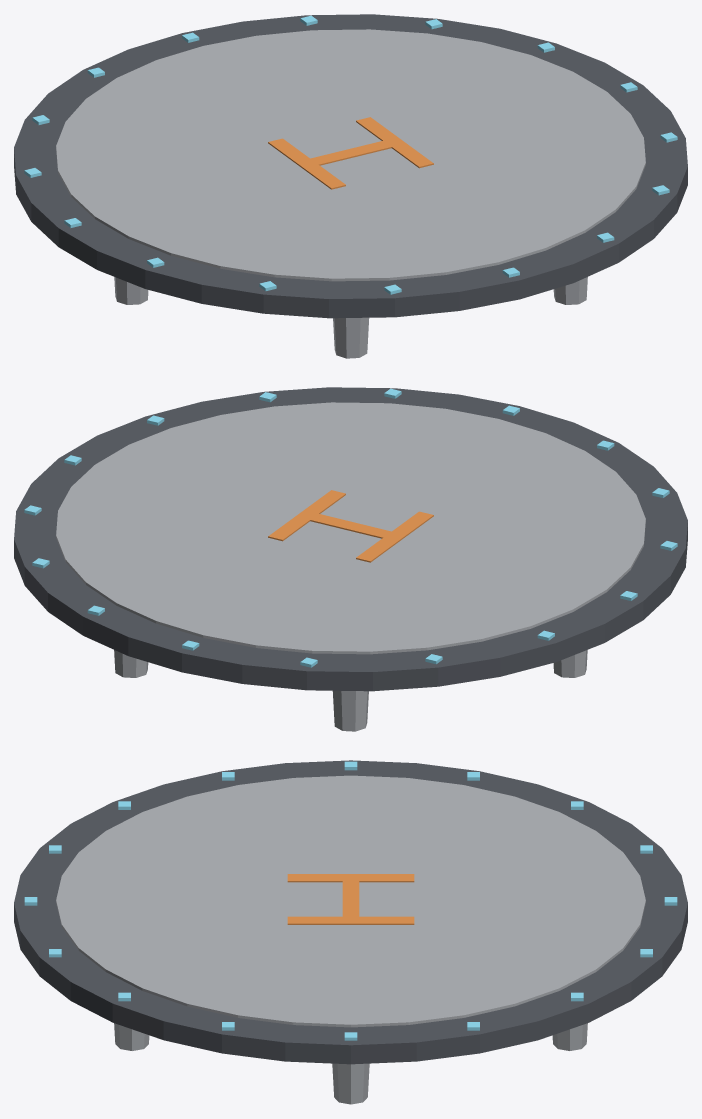
Rendered from landing_pad.fbx.
The picture shows the model from 3 angles, top to bottom: view 1: azimuth 30°, elevation 25°; view 2: azimuth 150°, elevation 25°; view 3: azimuth 270°, elevation 25°; orthographic projection.
Parts seen in each view (by area): view 1: Body; view 2: Body; view 3: Body.
Boxes of the visible parts, x1,y1,x2,y2 form: Body: (14, 14, 687, 358); Body: (14, 387, 687, 731); Body: (14, 760, 687, 1104).
Bounding box in the file's own units: 16 × 2.4 × 16.
